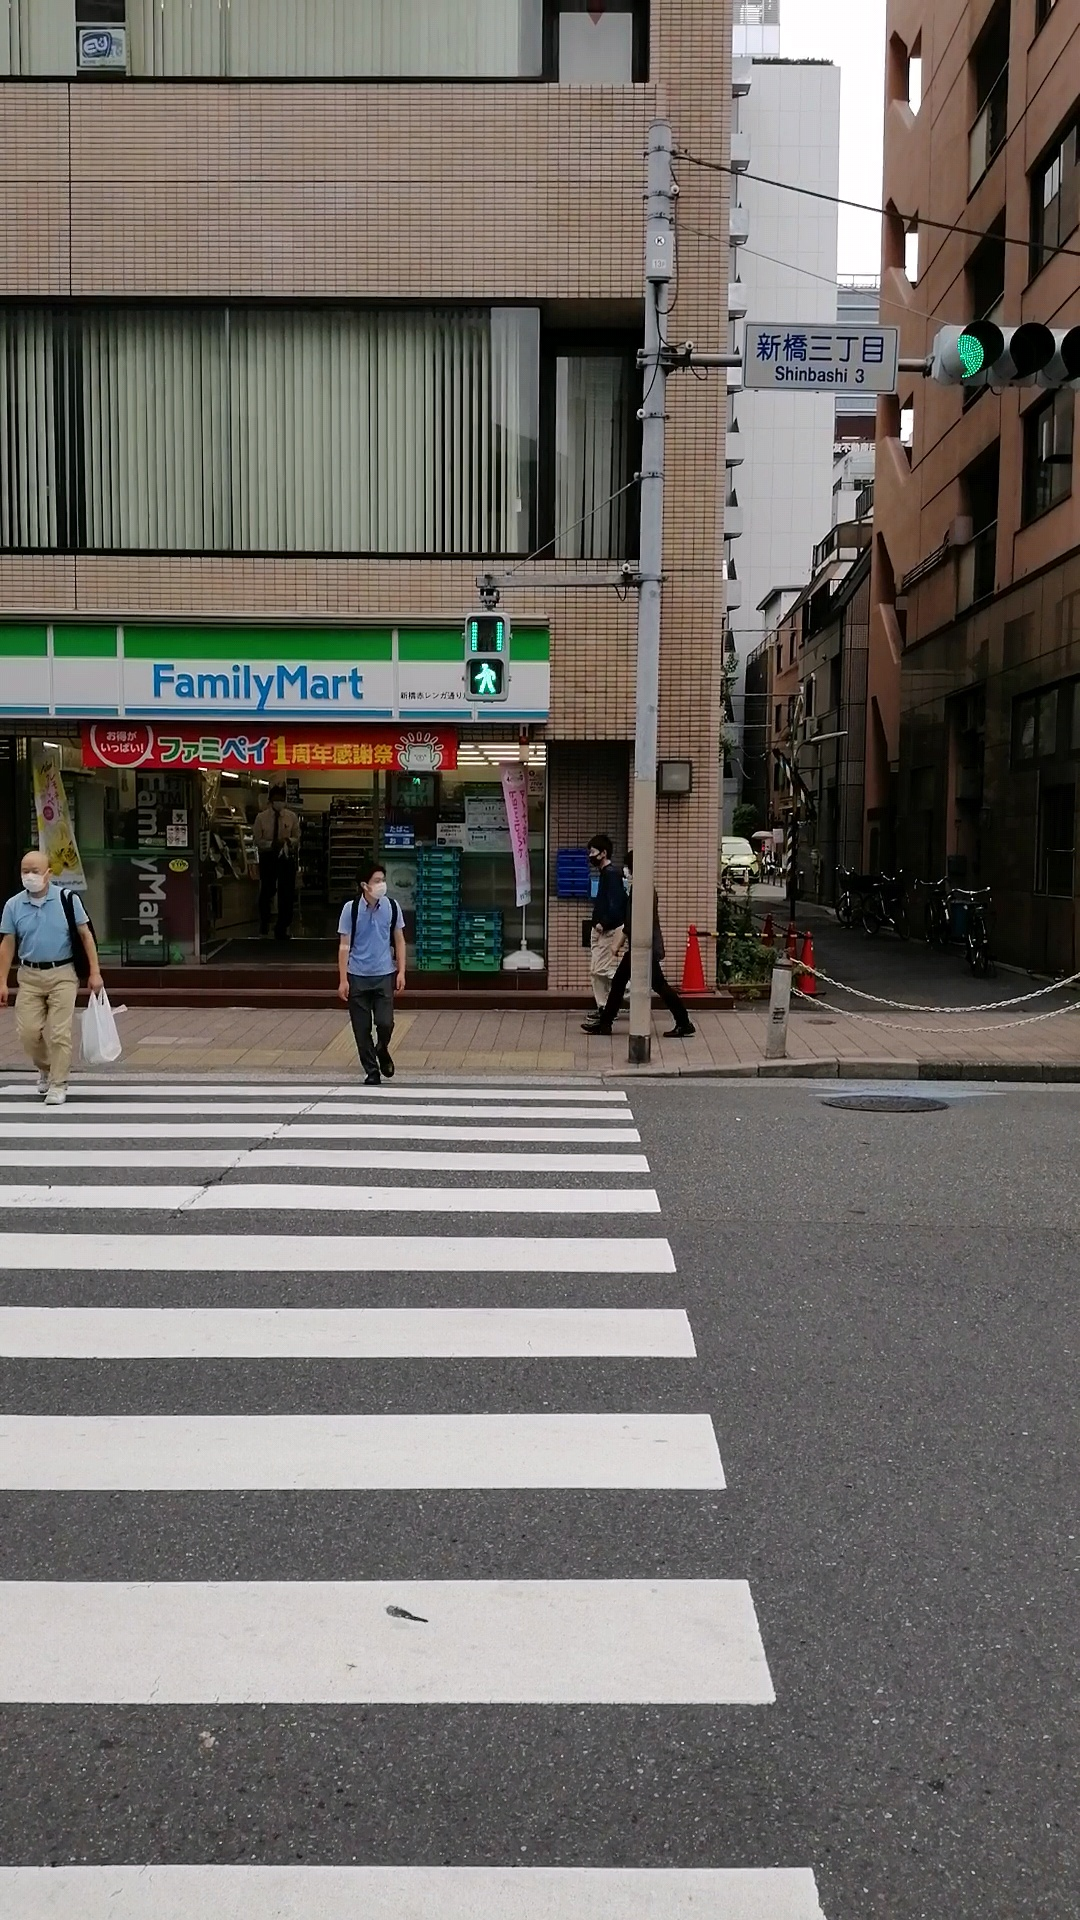green: (465, 615, 512, 700)
